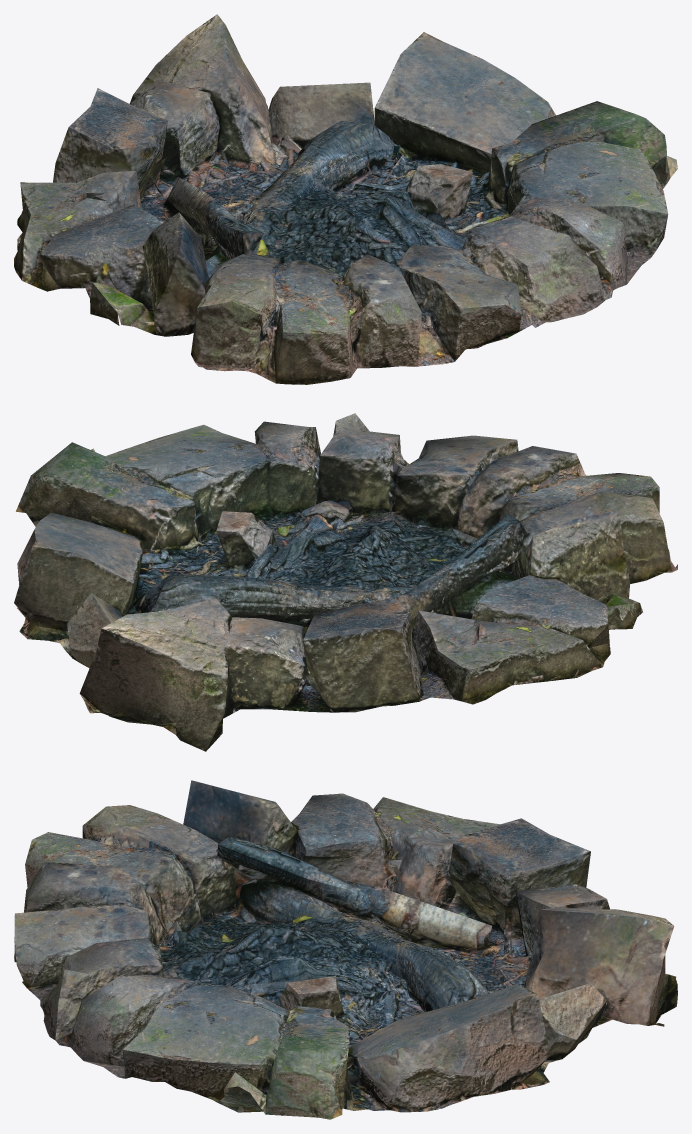
The picture shows the model from 3 angles, top to bottom: view 1: azimuth 30°, elevation 25°; view 2: azimuth 150°, elevation 25°; view 3: azimuth 270°, elevation 25°; orthographic projection.
Parts seen in each view (by area): view 1: Fire Pit; view 2: Fire Pit; view 3: Fire Pit.
Boxes of the visible parts, x1=… form: Fire Pit: x1=14, y1=14, x2=677, y2=384; Fire Pit: x1=14, y1=413, x2=677, y2=751; Fire Pit: x1=14, y1=780, x2=677, y2=1119.
Size of the model in its own units: 0.9177 by 0.1684 by 0.8729.
Materials: 1 (1 with a texture image).
